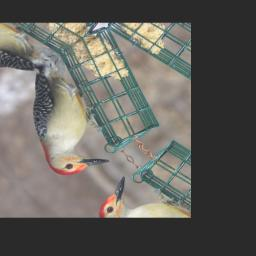Woodpecker: (0, 56, 139, 190)
